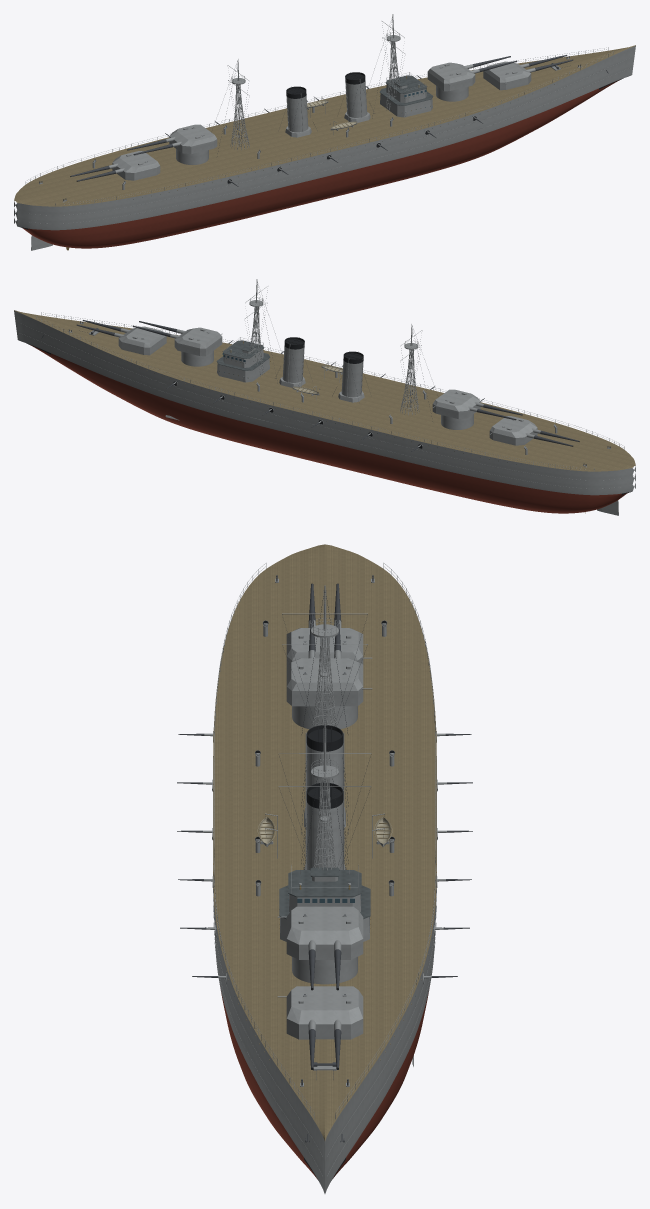
Rendered from colorado.glb.
3 views of the same model, one above another, from view 1: azimuth 30°, elevation 25°; view 2: azimuth 150°, elevation 25°; view 3: azimuth 270°, elevation 25° (orthographic). The views are drawn at different scales.
Parts seen in each view (by area): view 1: Colorado class; view 2: Colorado class; view 3: Colorado class.
Part boxes in pixels (bbox=[...]): Colorado class: bbox=[14, 14, 635, 250]; Colorado class: bbox=[14, 279, 635, 515]; Colorado class: bbox=[177, 544, 472, 1193].
Size of the model in its own units: 190 by 44.25 by 39.37.
Materials: 9 (8 with a texture image).
